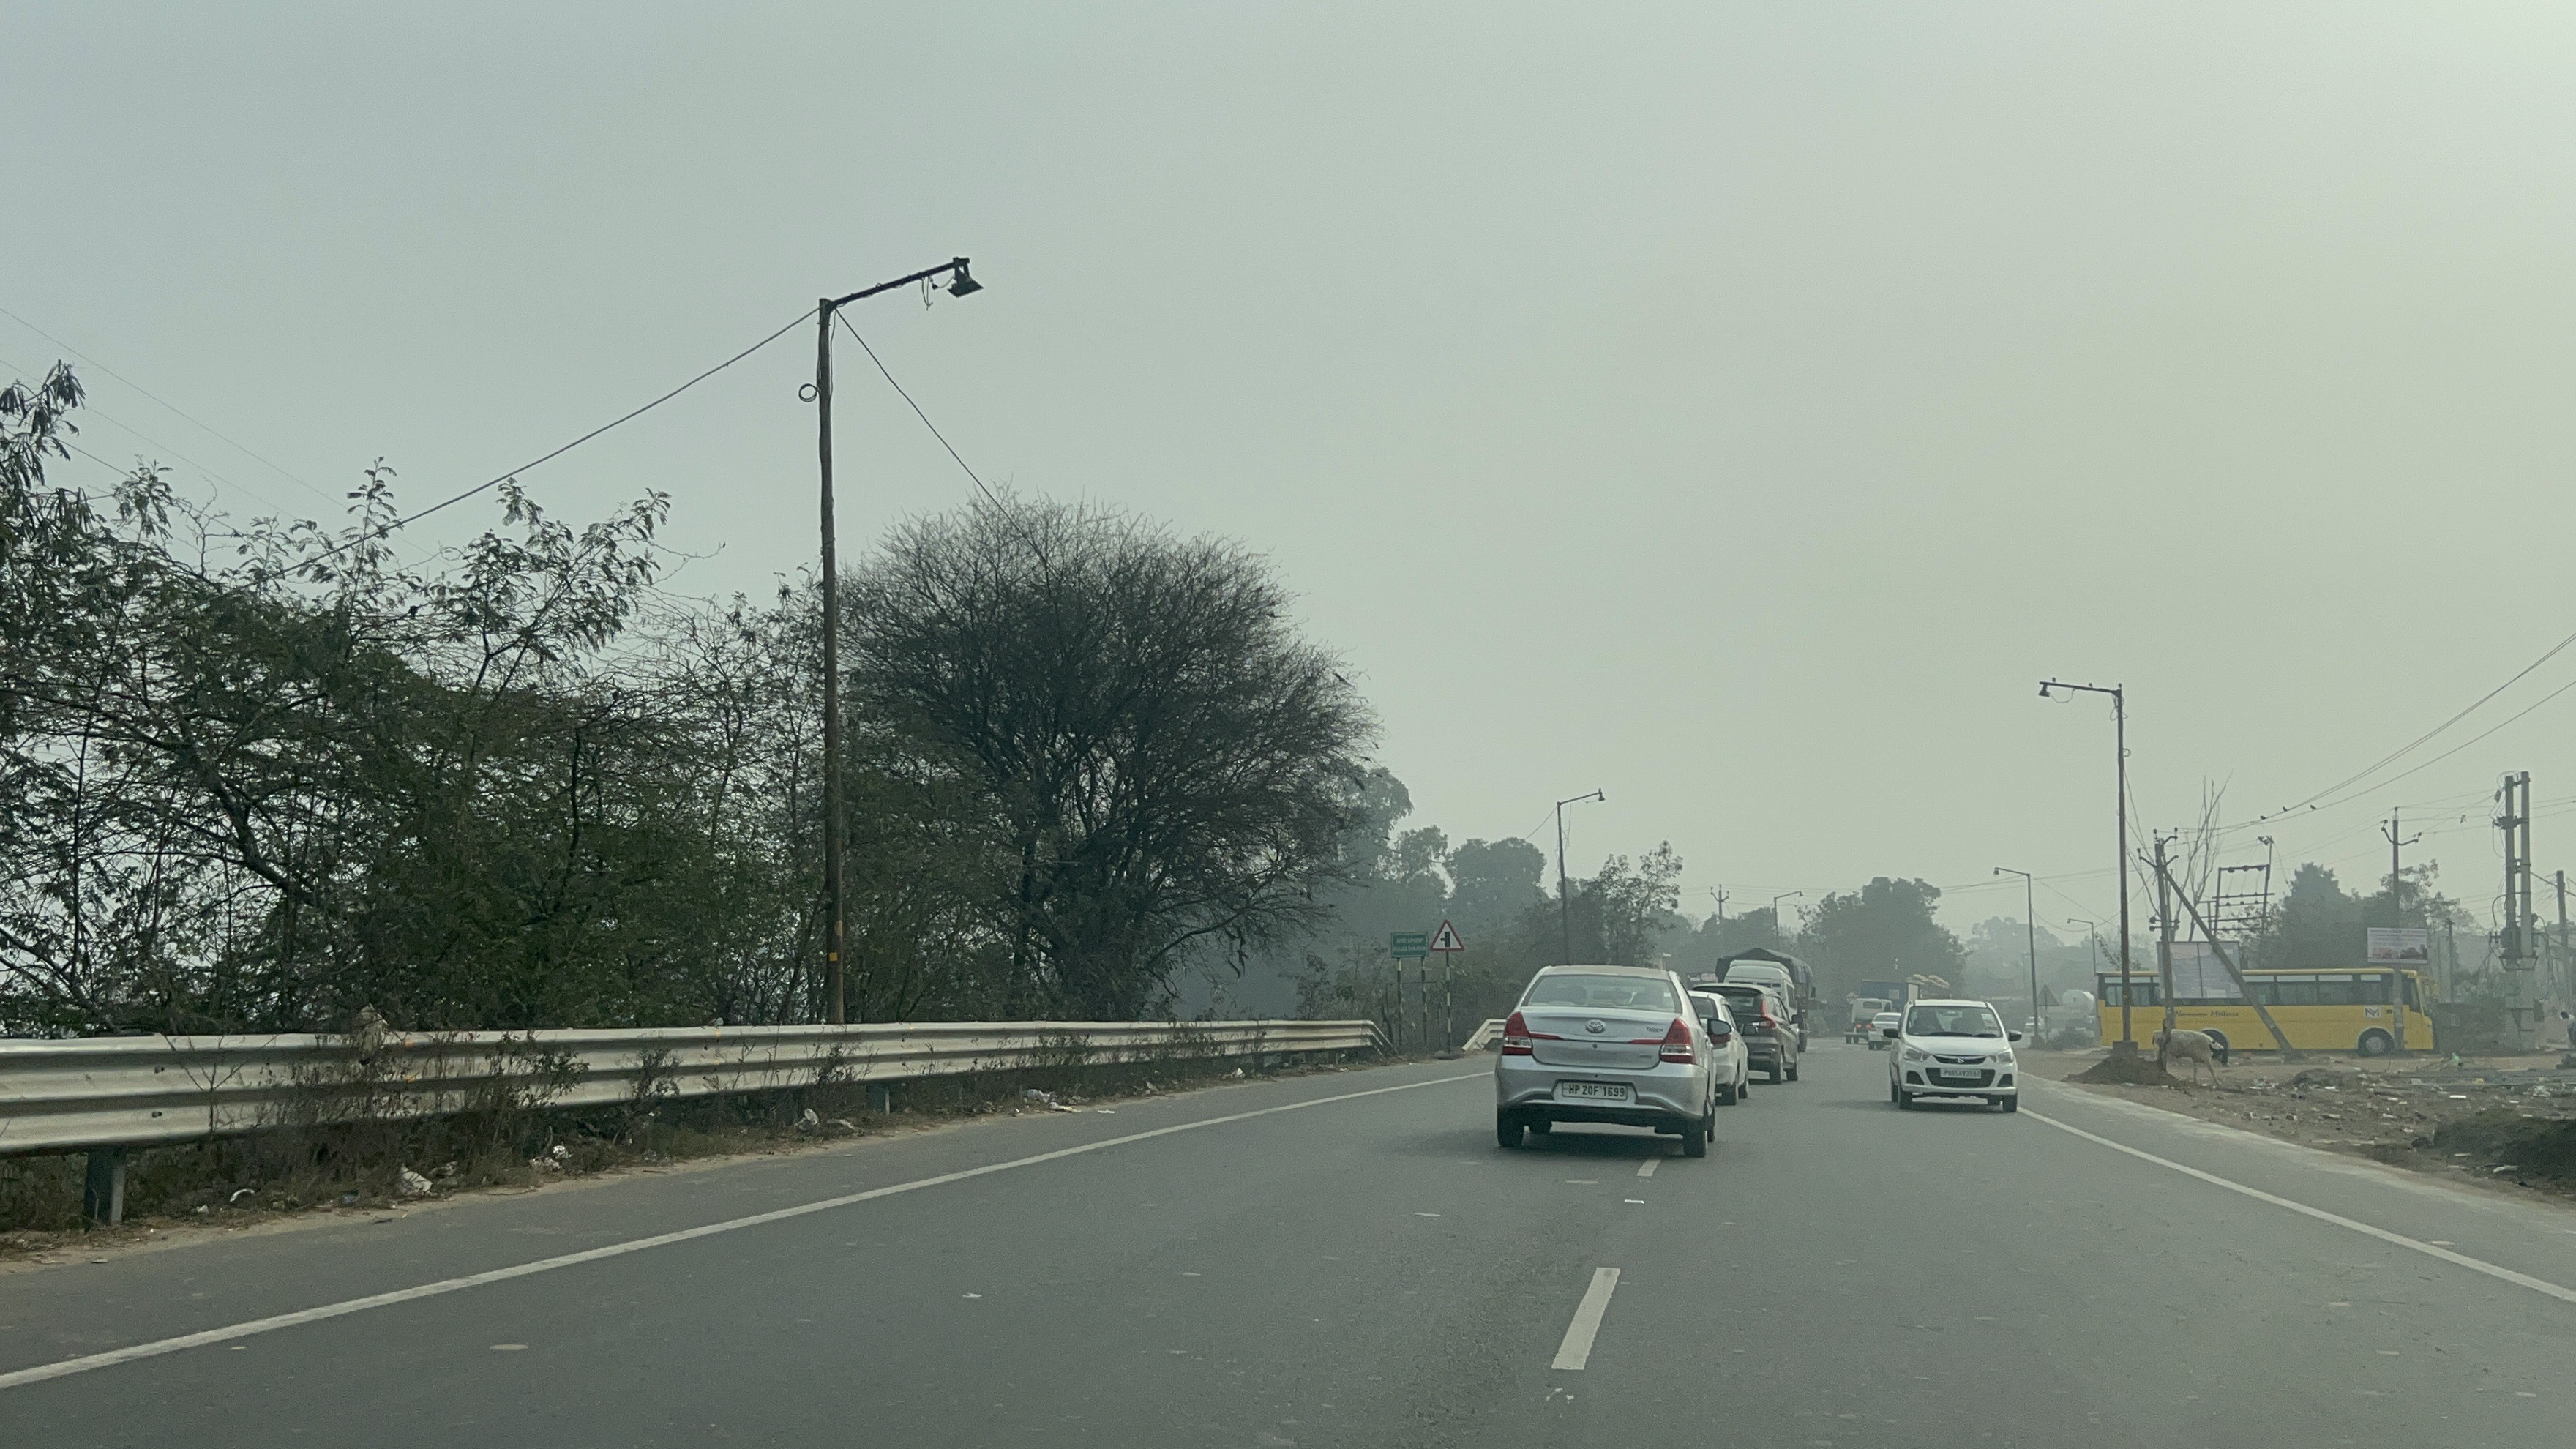Warning: (1419, 918, 1474, 955)
